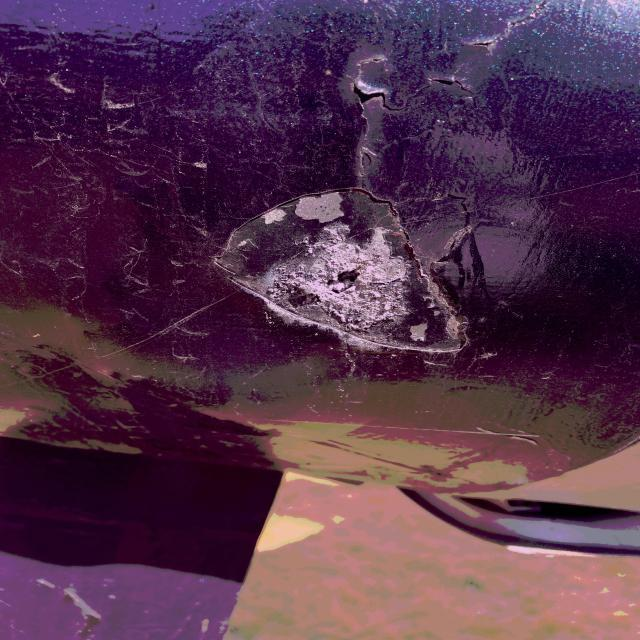crack: (415, 59, 503, 117), (470, 20, 543, 65), (340, 60, 398, 111)
dent: (186, 189, 538, 357)
